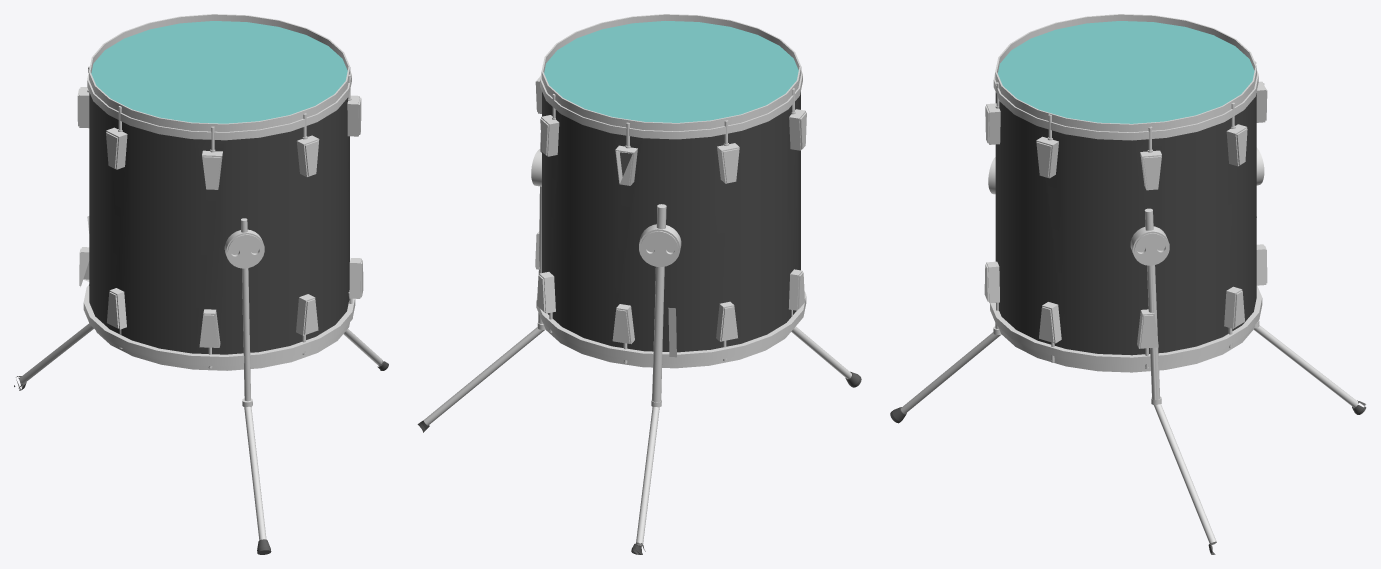
Rendered from floorTom.fbx.
The picture shows the model from 3 angles, left to right: view 1: azimuth 30°, elevation 25°; view 2: azimuth 150°, elevation 25°; view 3: azimuth 270°, elevation 25°; orthographic projection.
Parts seen in each view (by area): view 1: sketchup-download200608261108382#3_001; view 2: sketchup-download200608261108382#3_001; view 3: sketchup-download200608261108382#3_001.
Part boxes in pixels (x1,y1,x2,y2): sketchup-download200608261108382#3_001: [14, 14, 388, 554]; sketchup-download200608261108382#3_001: [417, 14, 861, 554]; sketchup-download200608261108382#3_001: [890, 14, 1366, 554].
Bounding box in the file's own units: 3.68 × 4.05 × 4.53.
